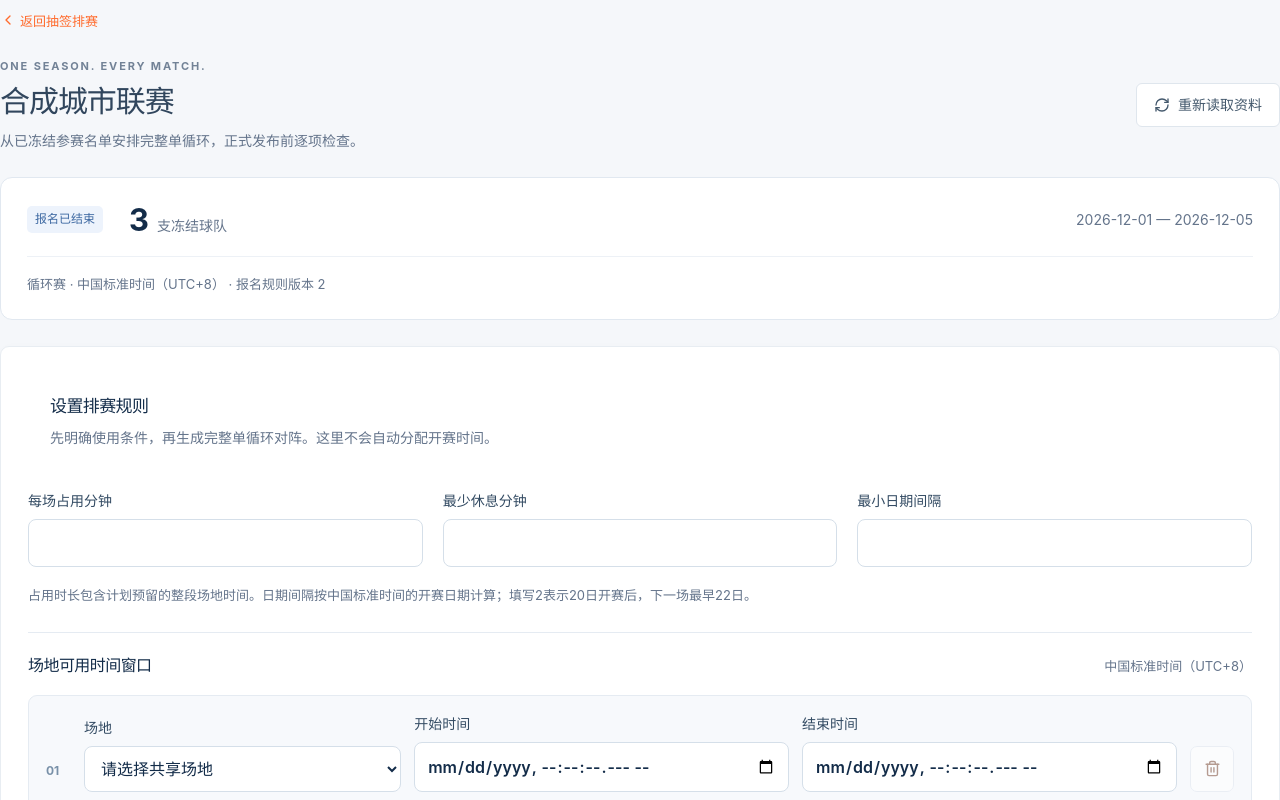
场地与排赛业务界面 › 政策要求显式0间隔，生成使用当前赛事版本而非冻结时版本，时间为UTC+8
Expected: the number field labelled "最少休息分钟" is not empty, [443,519,837,567]
Expected: the number field labelled "最小日期间隔" is not empty, [857,519,1252,567]
Step 1. Type "60" into the number field labelled "每场占用分钟" → (225, 543), box [28,519,423,567]
(page scrolled)
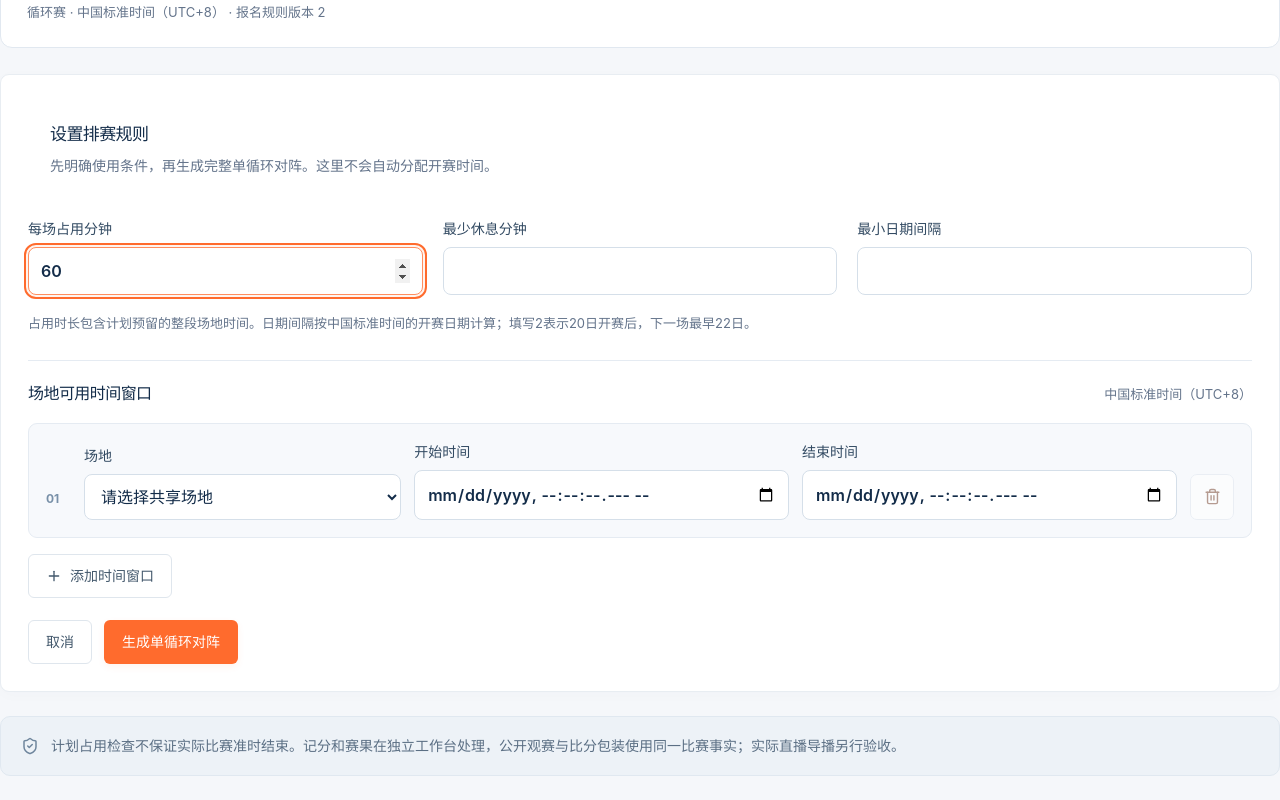
Step 2. Click the button "生成单循环对阵" → (171, 642), box [104,620,238,664]
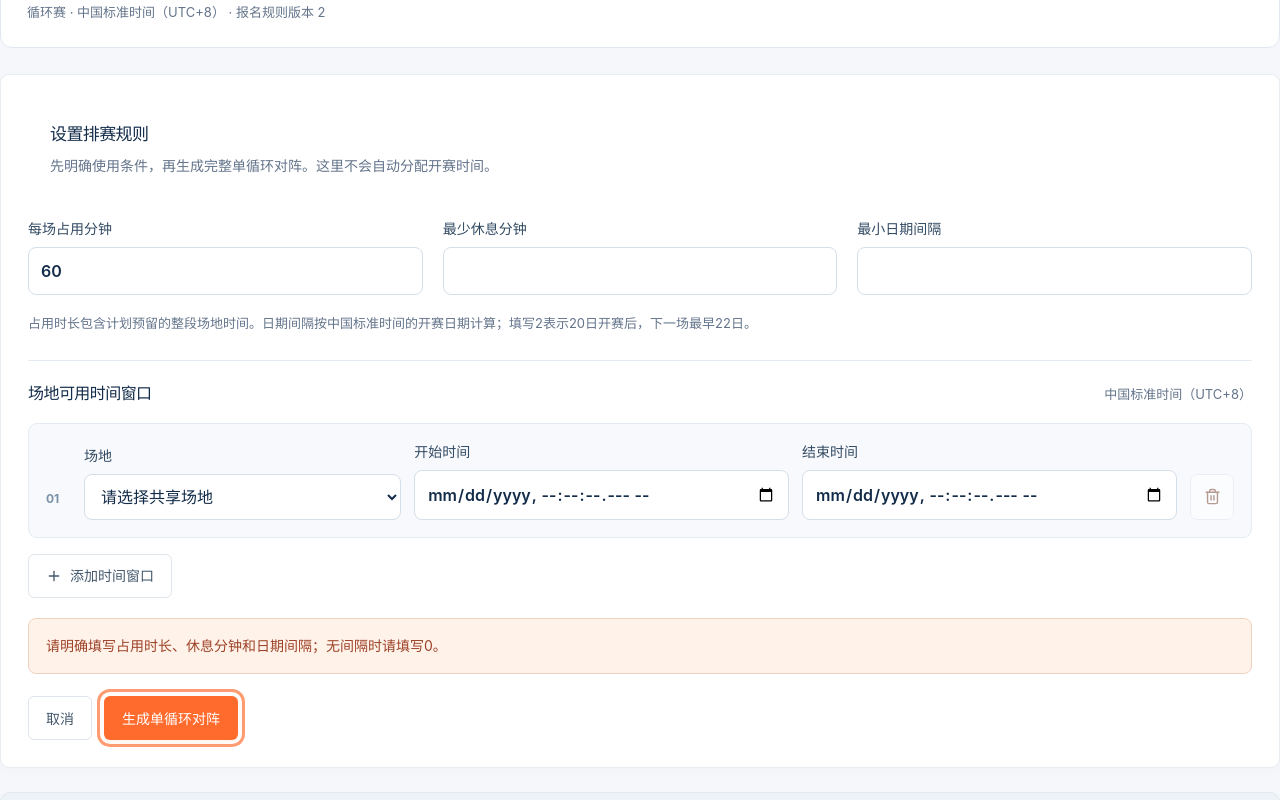
Expected: the message shows "无间隔时请填写0", [46,637,447,654]
Step 3. Type "0" into the number field labelled "最少休息分钟" → (640, 271), box [443,247,837,295]
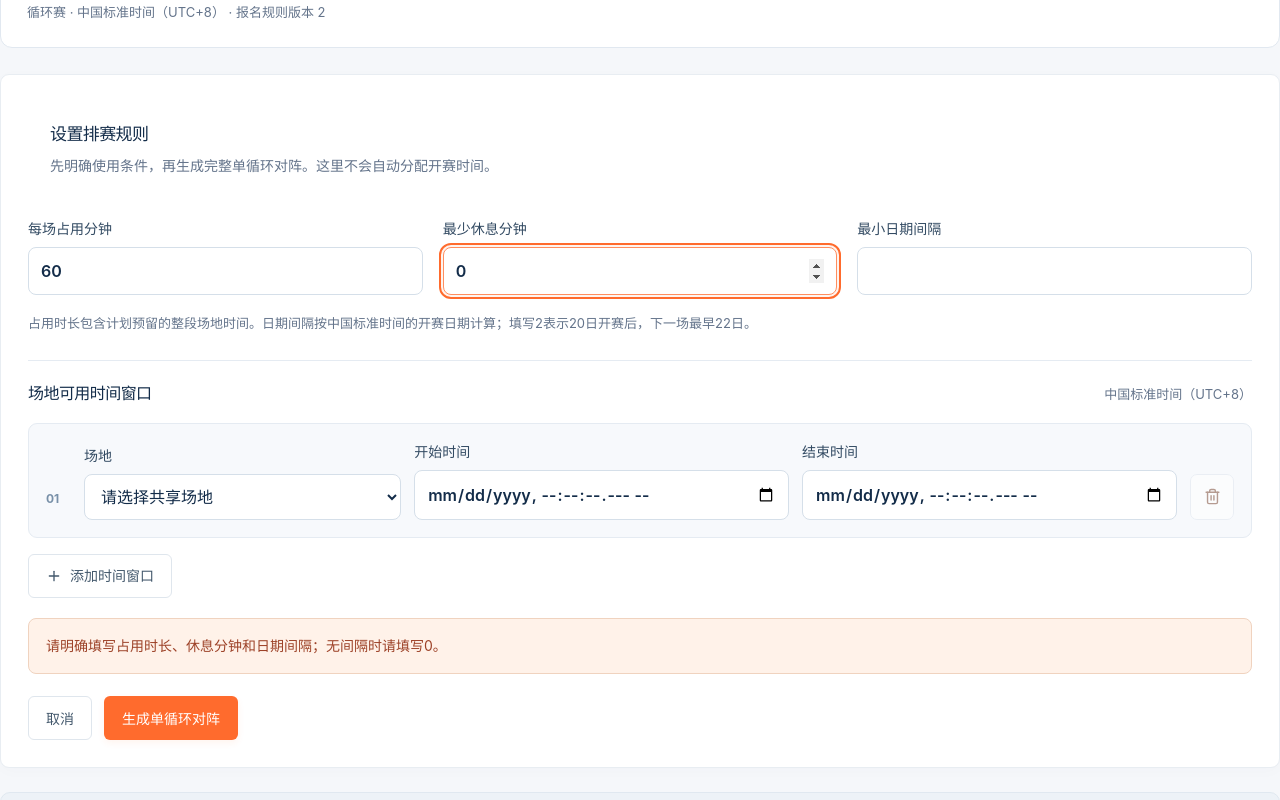
Step 4. Type "0" into the number field labelled "最小日期间隔" → (1055, 271), box [857,247,1252,295]
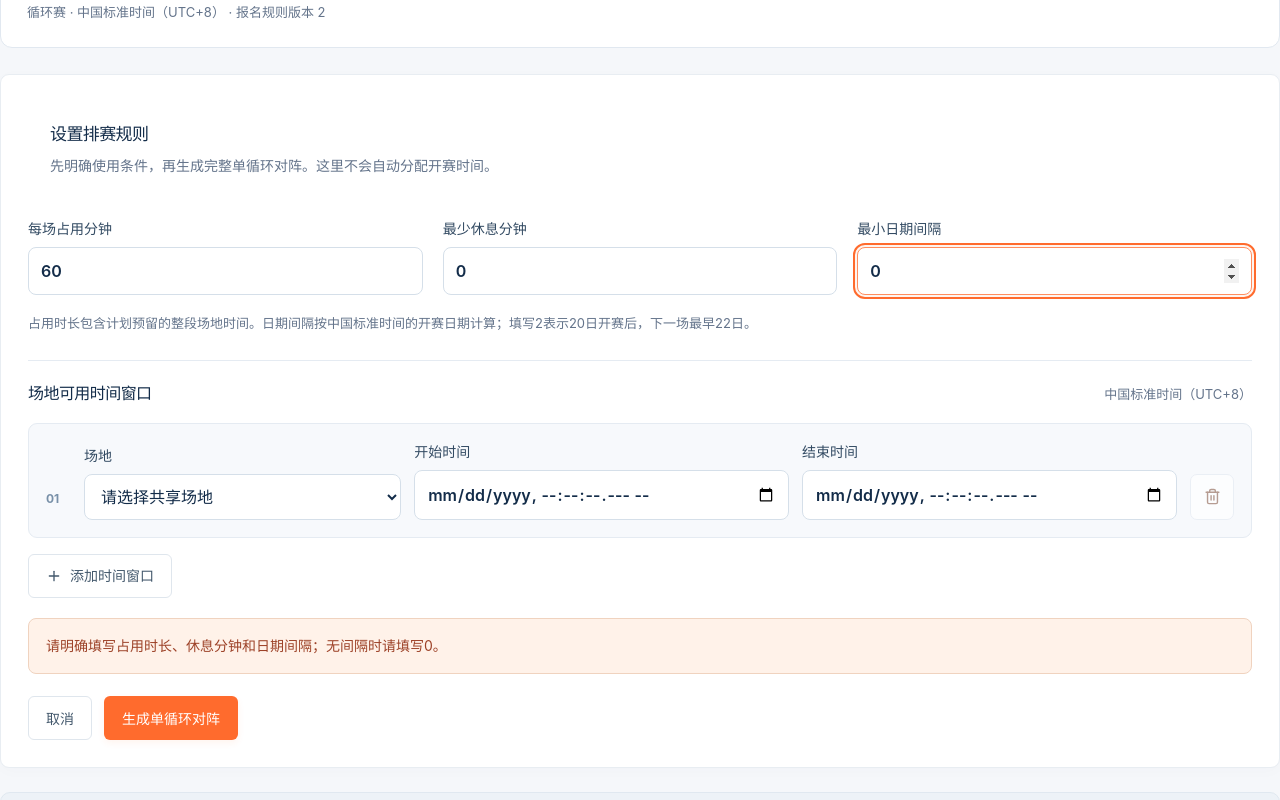
Step 5. Select "合成共享球场" in the dropdown named "窗口1场地" → (243, 497), box [84,474,401,520]
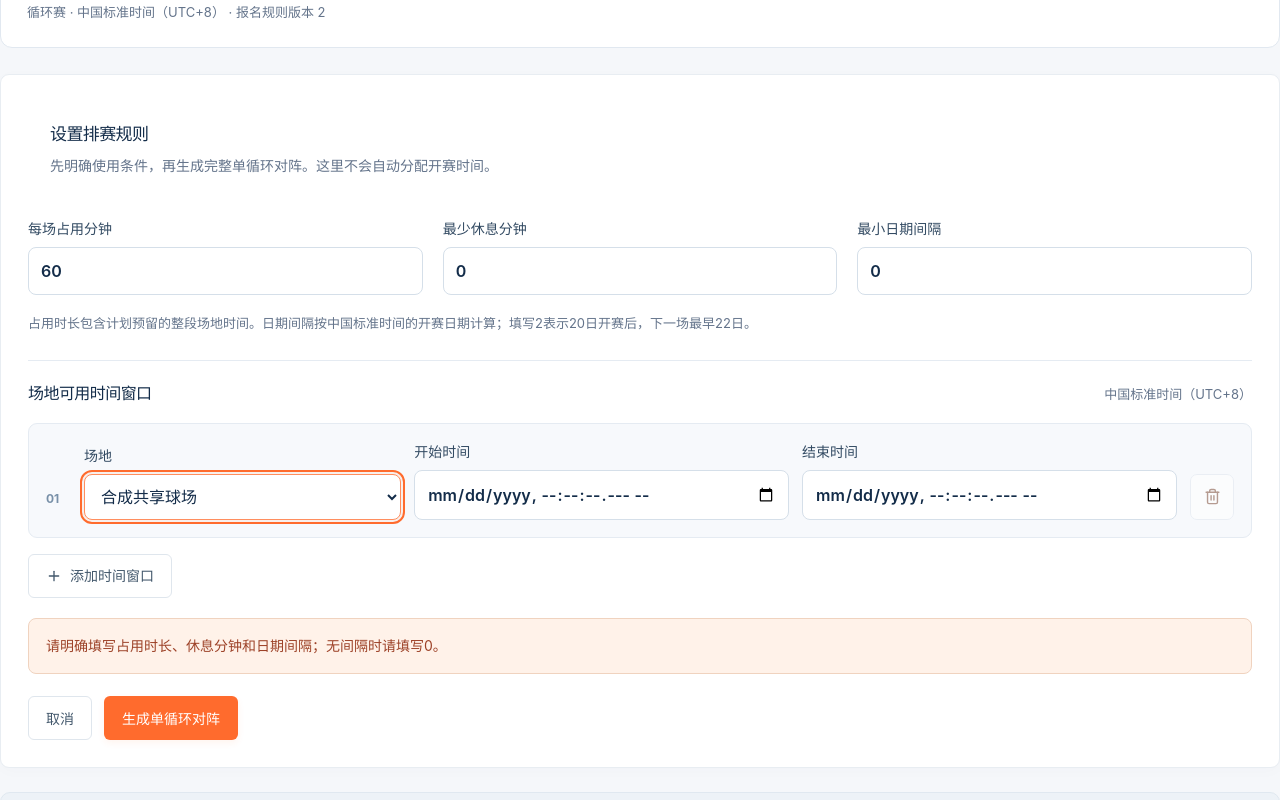
Step 6. Type "2026-12-01T09:00" into the field named "窗口1开始时间" → (602, 495), box [414,470,789,520]
Step 7. Type "2026-12-01T18:00" into the field named "窗口1结束时间" → (990, 495), box [802,470,1177,520]
Step 8. Click the button "生成单循环对阵" → (171, 718), box [104,696,238,740]
(page scrolled)
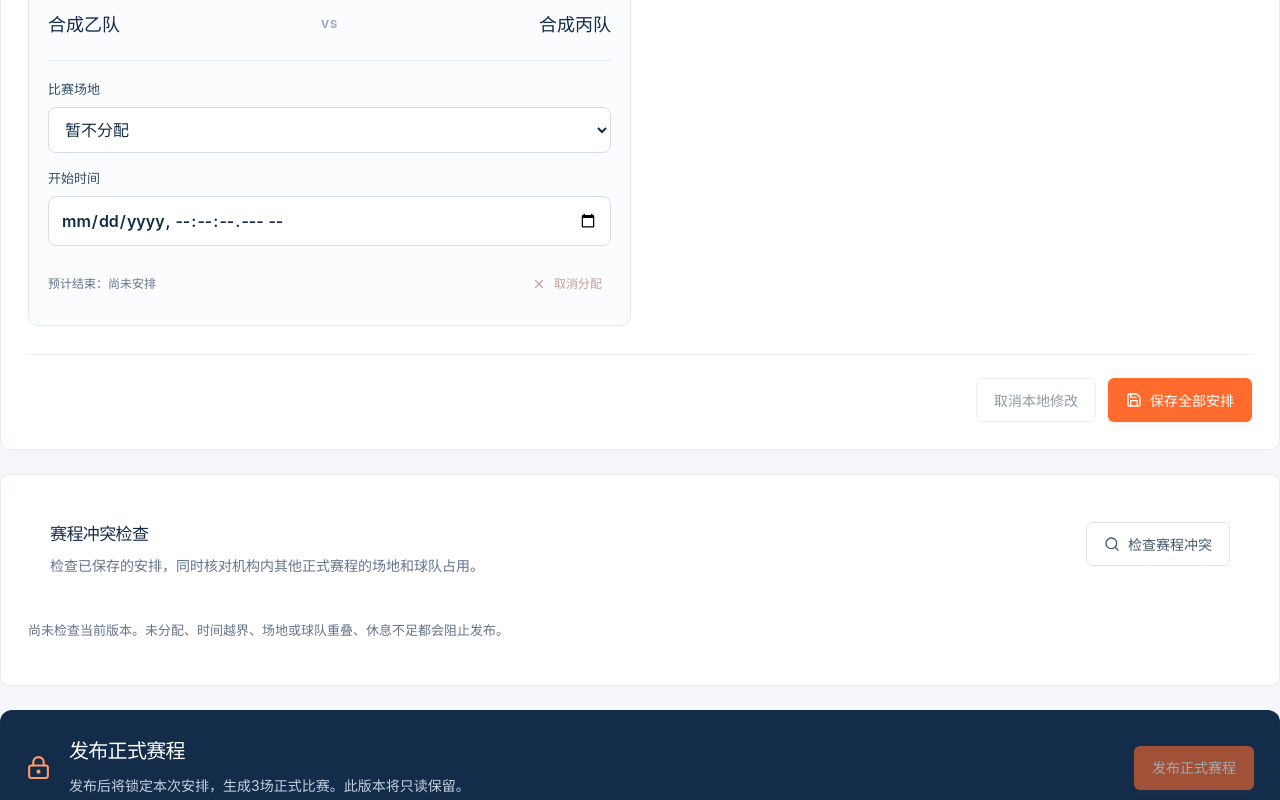
Expected: the button "保存全部安排" is shown, [1108,378,1252,422]
